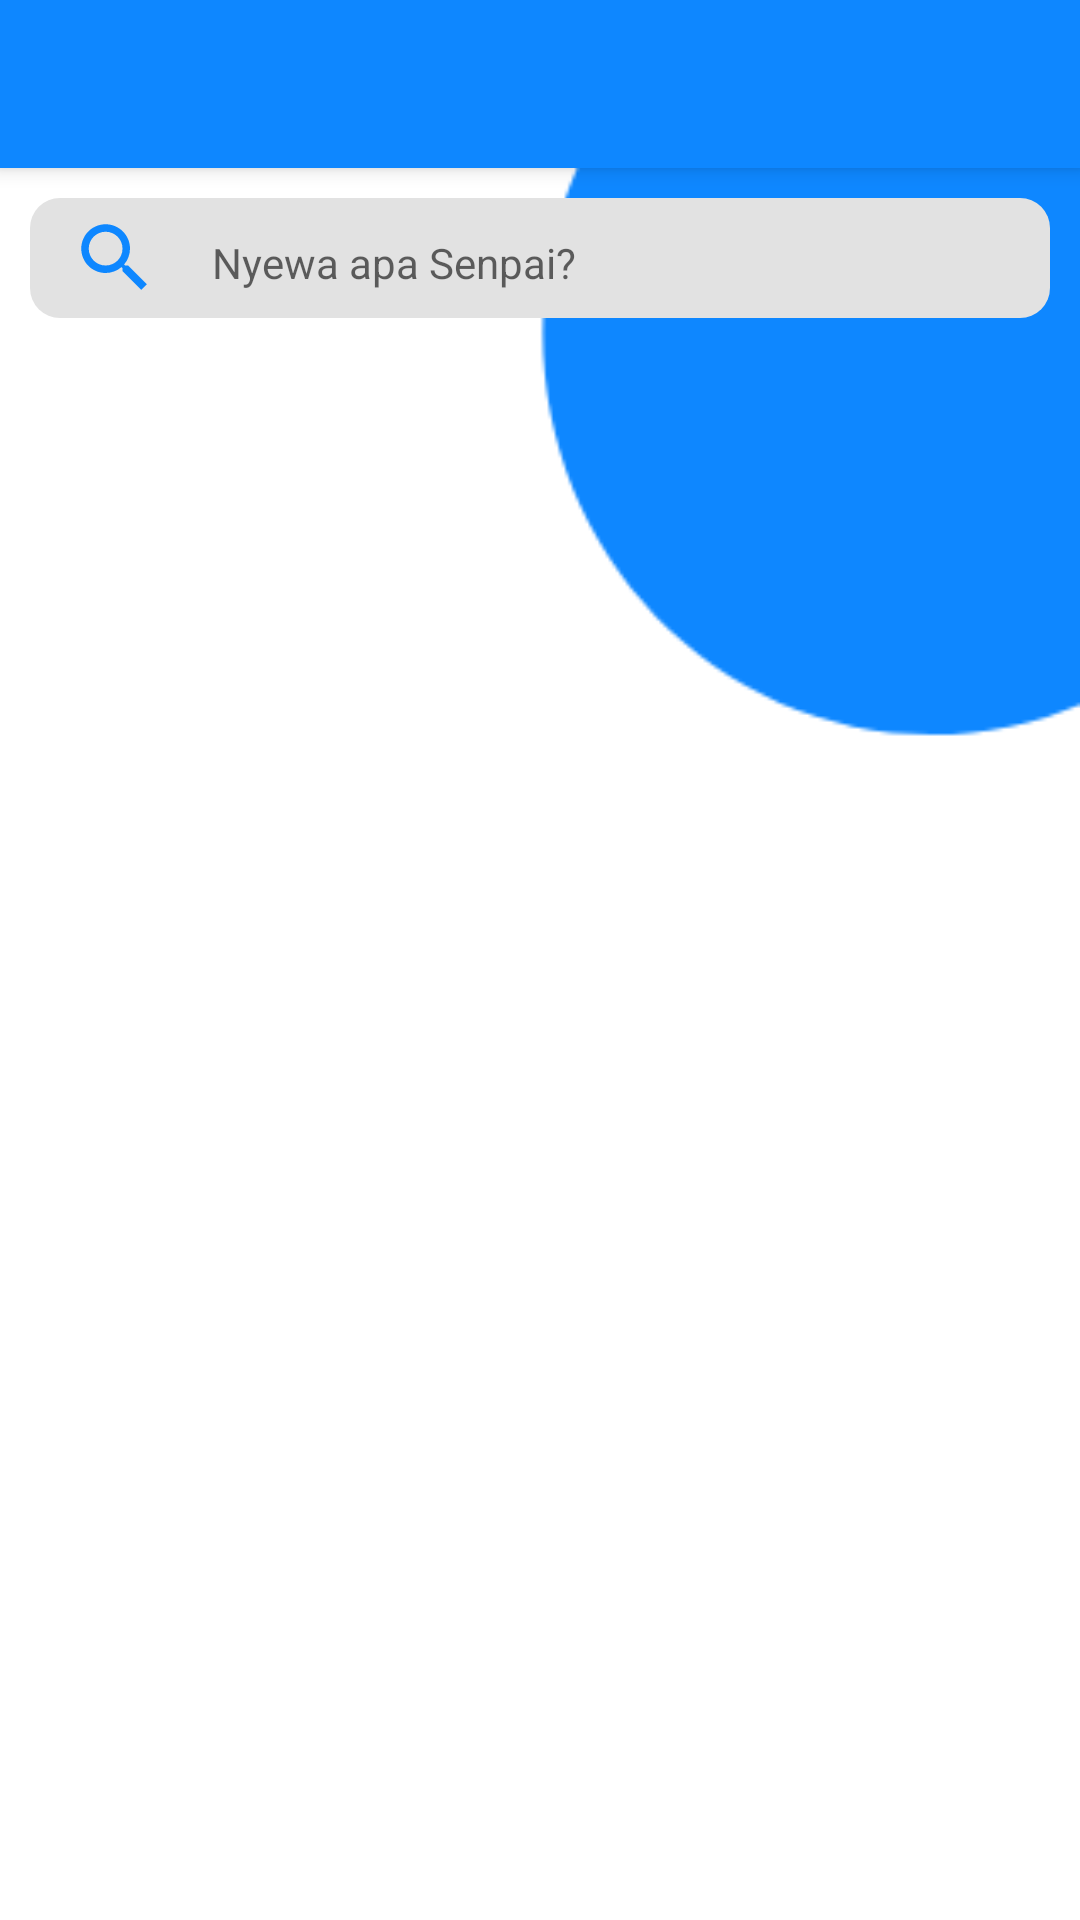

Locate icon controls on the screen. Image size 1080*1920, boxes as (x1, y1, x2, y2).
search: (30, 198, 200, 318)
